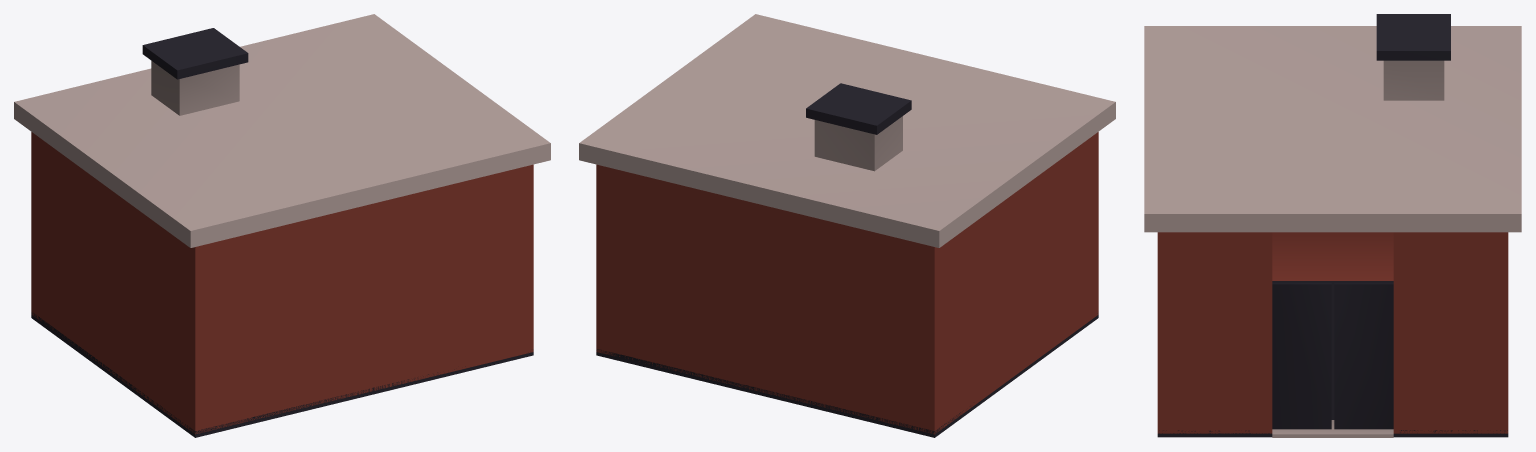
Rendered from kit.zoo-tunnel-mouth.lod2.glb.
The picture shows the model from 3 angles, left to right: view 1: azimuth 30°, elevation 25°; view 2: azimuth 150°, elevation 25°; view 3: azimuth 270°, elevation 25°; orthographic projection. The views are drawn at different scales.
Parts seen in each view (by area): view 1: body; view 2: body; view 3: body, door_main, door_main_right.
Part boxes in pixels (x1=…): body: x1=14, y1=14, x2=550, y2=437; body: x1=579, y1=14, x2=1115, y2=437; body: x1=1144, y1=14, x2=1521, y2=437; door_main: x1=1272, y1=282, x2=1331, y2=429; door_main_right: x1=1334, y1=282, x2=1393, y2=429.
Size of the model in its own units: 6.6 by 4.76 by 5.6.
